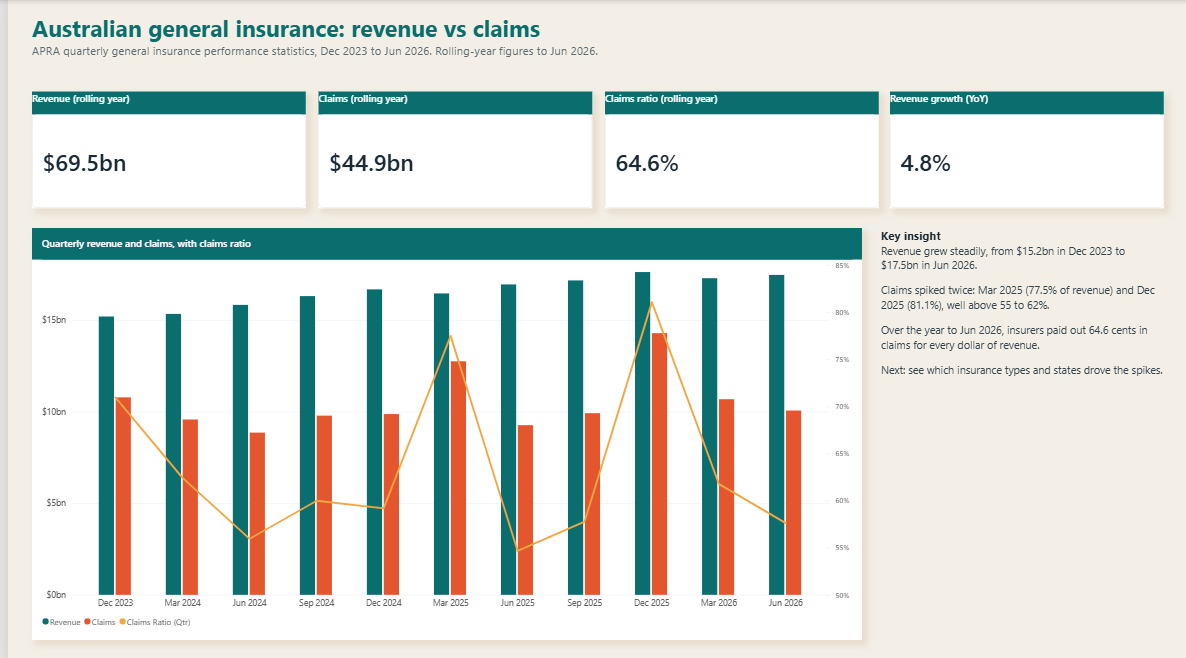

What the dashboard file says about the page in this screenshot:
{"tool":"powerbi","page":{"name":"Industry Overview","canvas":[1920,1080],"ordinal":0},"visuals":[{"type":"textbox","box":[40,20,1300,110],"z":0},{"type":"cardVisual","title":"Revenue (rolling year)","fields":{"Data":["Measure_Table.Revenue R4Q"]},"box":[40,150,445,190],"z":1000},{"type":"cardVisual","title":"Claims (rolling year)","fields":{"Data":["Measure_Table.Claims R4Q"]},"box":[505,150,445,190],"z":2000},{"type":"cardVisual","title":"Claims ratio (rolling year)","fields":{"Data":["Measure_Table.Claims Ratio R4Q"]},"box":[970,150,445,190],"z":3000},{"type":"cardVisual","title":"Revenue growth (YoY)","fields":{"Data":["Measure_Table.Revenue YoY %"]},"box":[1435,150,445,190],"z":4000},{"type":"lineClusteredColumnComboChart","title":"Quarterly revenue and claims, with claims ratio","fields":{"Category":["Date.Quarter Label"],"Y":["Measure_Table.Revenue","Measure_Table.Claims"],"Y2":["Measure_Table.Claims Ratio (Qtr)"]},"box":[40,370,1350,670],"z":5000},{"type":"textbox","box":[1420,370,460,670],"z":6000}]}

Visuals, with their boxes in screenshot pixels (x1, y1, x2, y2), scaled from the page's 1920x1080 canvas onto the 1186x658 screenshot:
textbox: 25:12:828:79
"Revenue (rolling year)" cardVisual: 25:91:300:207
"Claims (rolling year)" cardVisual: 312:91:587:207
"Claims ratio (rolling year)" cardVisual: 599:91:874:207
"Revenue growth (YoY)" cardVisual: 886:91:1161:207
"Quarterly revenue and claims, with claims ratio" lineClusteredColumnComboChart: 25:225:859:634
textbox: 877:225:1161:634
